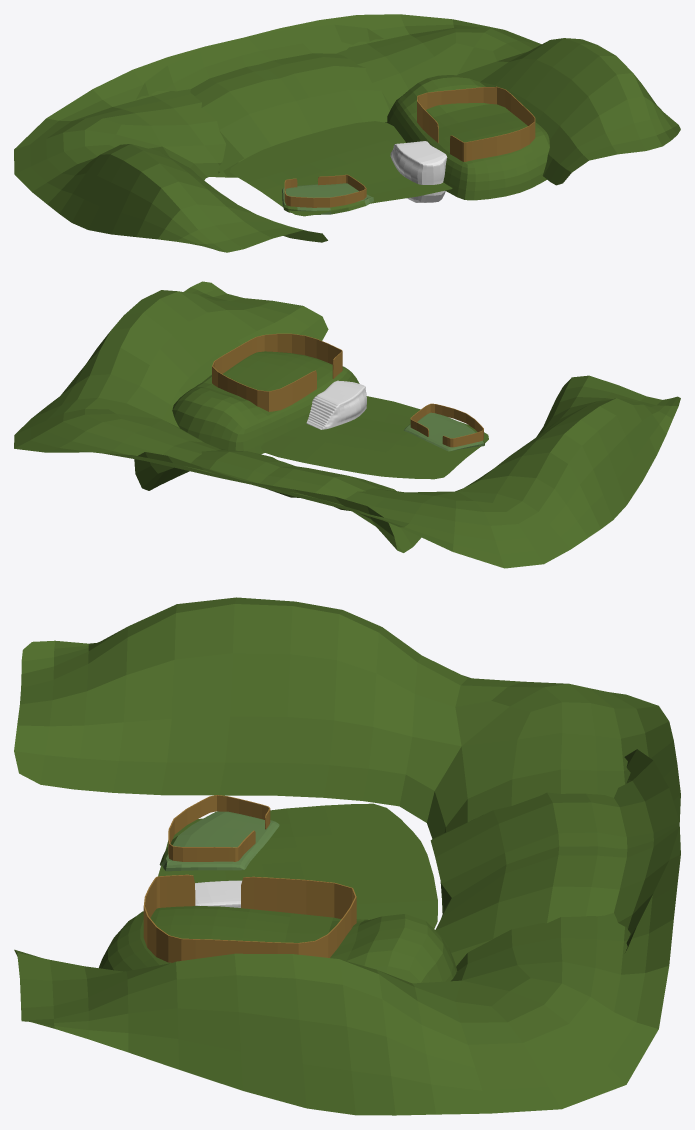
Rendered from MiharuLand 1.fbx.
3 views of the same model, one above another, from view 1: azimuth 30°, elevation 25°; view 2: azimuth 150°, elevation 25°; view 3: azimuth 270°, elevation 25° (orthographic). The views are drawn at different scales.
Parts seen in each view (by area): view 1: Ground.003, Ground.001, Ground, GardenFens.001, StoneStairs, Ground.002, GardenFens; view 2: Ground.003, Ground.001, Ground, GardenFens.001, StoneStairs, Ground.002, GardenFens; view 3: Ground.003, Ground, Ground.001, GardenFens.001, Ground.002, GardenFens, StoneStairs.
Boxes of the visible parts, <box> form: Ground.003: <box>14,14,680,252</box>; Ground.001: <box>385,75,549,200</box>; Ground: <box>230,121,452,216</box>; GardenFens.001: <box>417,86,535,161</box>; StoneStairs: <box>390,141,447,202</box>; Ground.002: <box>282,183,373,214</box>; GardenFens: <box>284,174,366,207</box>; Ground.003: <box>14,281,680,568</box>; Ground.001: <box>172,351,359,454</box>; Ground: <box>261,396,488,479</box>; GardenFens.001: <box>212,333,342,411</box>; StoneStairs: <box>306,380,366,429</box>; Ground.002: <box>404,412,484,451</box>; GardenFens: <box>410,403,483,447</box>; Ground.003: <box>14,597,680,1115</box>; Ground: <box>158,803,437,928</box>; Ground.001: <box>99,906,457,983</box>; GardenFens.001: <box>143,874,356,962</box>; Ground.002: <box>159,811,279,871</box>; GardenFens: <box>168,795,270,861</box>; StoneStairs: <box>195,880,241,907</box>.
Bounding box in the file's own units: 15713 × 2888 × 10283.
